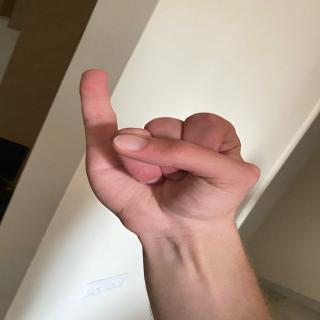MEEM: (66, 62, 270, 225)
